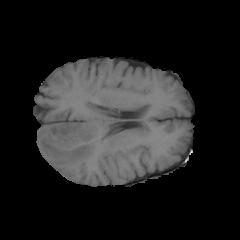glioma: (42, 122, 103, 167)
